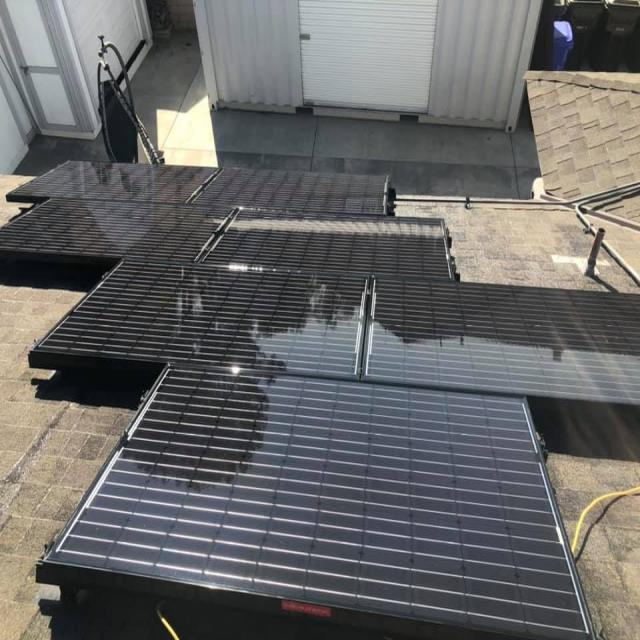no faulty: (2, 159, 639, 625)
